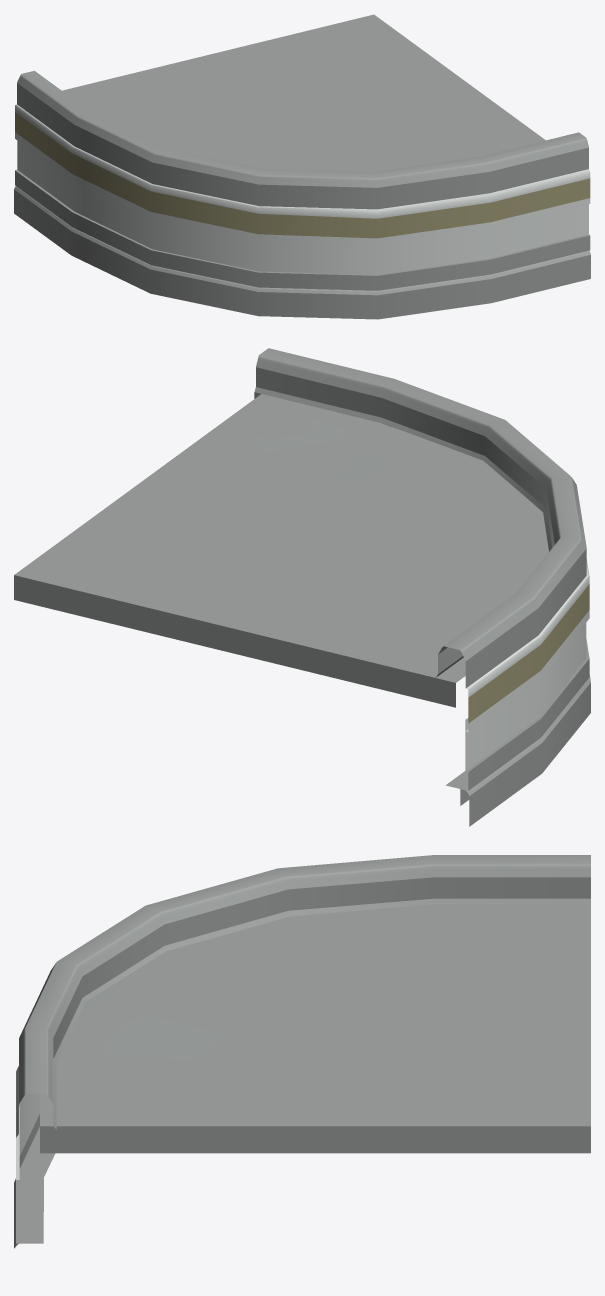
3 views of the same model, one above another, from view 1: azimuth 30°, elevation 25°; view 2: azimuth 150°, elevation 25°; view 3: azimuth 270°, elevation 25° (orthographic). The views are drawn at different scales.
Visible parts, largest first — view 1: G:\FFXIV-MapTools\exports\r2f1\bg\ex1\01_roc_r2\fld\r2f1\bgp (×9); view 2: G:\FFXIV-MapTools\exports\r2f1\bg\ex1\01_roc_r2\fld\r2f1\bgp (×9); view 3: G:\FFXIV-MapTools\exports\r2f1\bg\ex1\01_roc_r2\fld\r2f1\bgp (×6).
Part boxes in pixels (bbox=[...]): G:\FFXIV-MapTools\exports\r2f1\bg\ex1\01_roc_r2\fld\r2f1\bgp (×9): bbox=[14, 14, 590, 319]; G:\FFXIV-MapTools\exports\r2f1\bg\ex1\01_roc_r2\fld\r2f1\bgp (×9): bbox=[14, 348, 590, 826]; G:\FFXIV-MapTools\exports\r2f1\bg\ex1\01_roc_r2\fld\r2f1\bgp (×6): bbox=[16, 855, 590, 1243].
Bounding box in the file's own units: 19.47 × 7.01 × 19.48.
